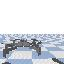drone: (1, 39, 42, 58)
